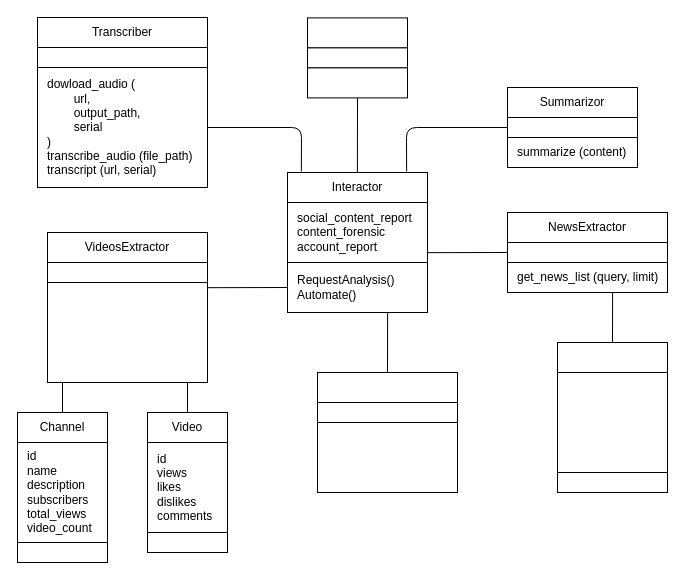
The diagram is 685 pixels wide and 580 high, and some of its shapes have lost their labels. Here are the shapes that lost their labels. From the top down, the centre of each, then its label:
At pixel 357 32: "Translator".
At pixel 357 82: "translate (text)".
At pixel 127 332: "videos_on_topic ( hashtag, start_date, end_date, max_result )".
At pixel 612 357: "News".
At pixel 387 387: "Identifier".
At pixel 612 422: "headline url publisher description content published_date".
At pixel 387 457: "validator ( transcribed_text, user_content )".
